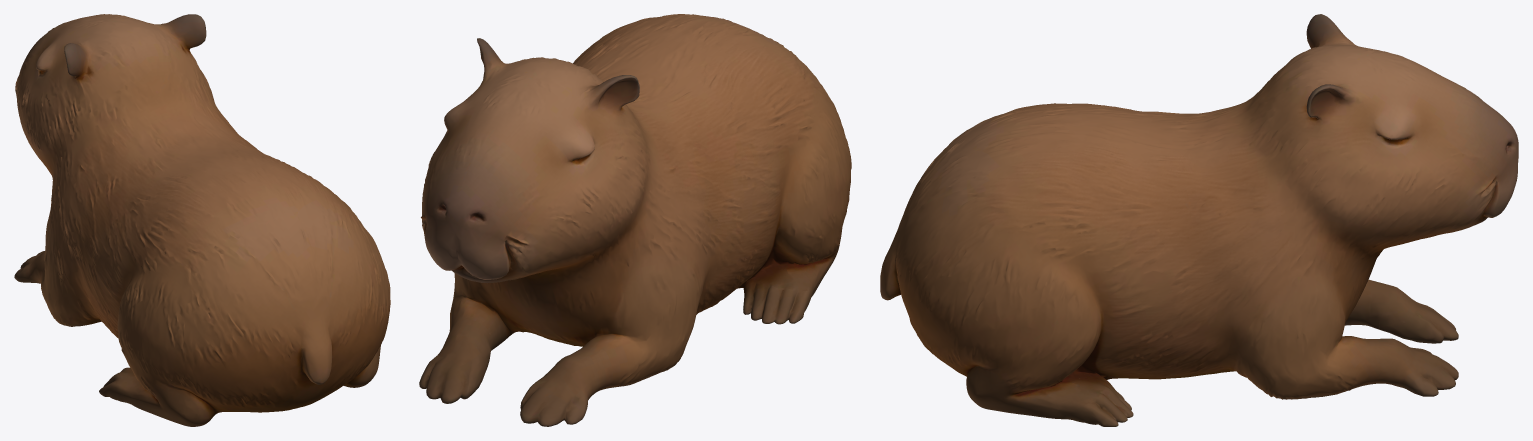
Rendered from 3ab40a16-03b9-4bcd-8f8e-5610b21a07bd.glb.
3 renders of one model, left to right at view 1: azimuth 30°, elevation 25°; view 2: azimuth 150°, elevation 25°; view 3: azimuth 270°, elevation 25°, orthographic. The views are drawn at different scales.
Visible parts, largest first — view 1: tripo_node_24a019fd-fab9-444e-82b8-1531c41c58f3; view 2: tripo_node_24a019fd-fab9-444e-82b8-1531c41c58f3; view 3: tripo_node_24a019fd-fab9-444e-82b8-1531c41c58f3.
Boxes of the visible parts, bbox=[...] form: tripo_node_24a019fd-fab9-444e-82b8-1531c41c58f3: bbox=[14, 14, 390, 426]; tripo_node_24a019fd-fab9-444e-82b8-1531c41c58f3: bbox=[419, 14, 851, 426]; tripo_node_24a019fd-fab9-444e-82b8-1531c41c58f3: bbox=[880, 14, 1518, 426].
Bounding box in the file's own units: 0.512 × 0.5333 × 0.9998.
1 material, 1 textured.
